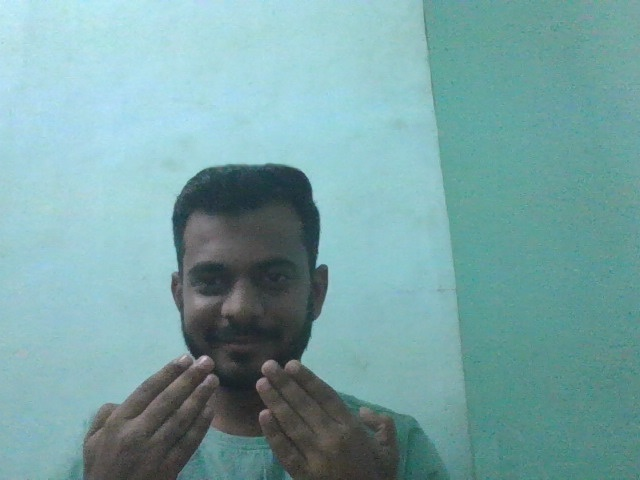thankyou: (78, 343, 398, 479)
